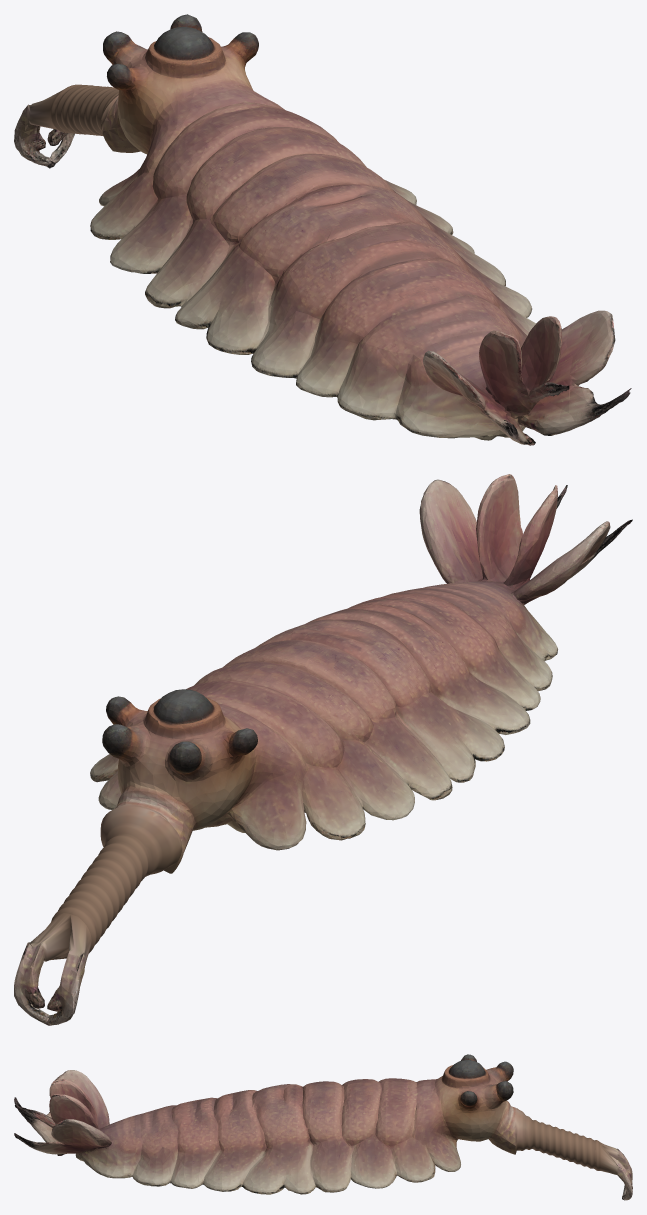
3 renders of one model, top to bottom at view 1: azimuth 30°, elevation 25°; view 2: azimuth 150°, elevation 25°; view 3: azimuth 270°, elevation 25°, orthographic. The views are drawn at different scales.
Visible parts, largest first — view 1: opabinia_attempt02; view 2: opabinia_attempt02; view 3: opabinia_attempt02.
Boxes of the visible parts, <box> form: opabinia_attempt02: <box>14,14,631,445</box>; opabinia_attempt02: <box>14,474,632,1025</box>; opabinia_attempt02: <box>14,1054,632,1200</box>.
Bounding box in the file's own units: 0.3279 × 0.2458 × 1.
Materials: 2 (1 with a texture image).
